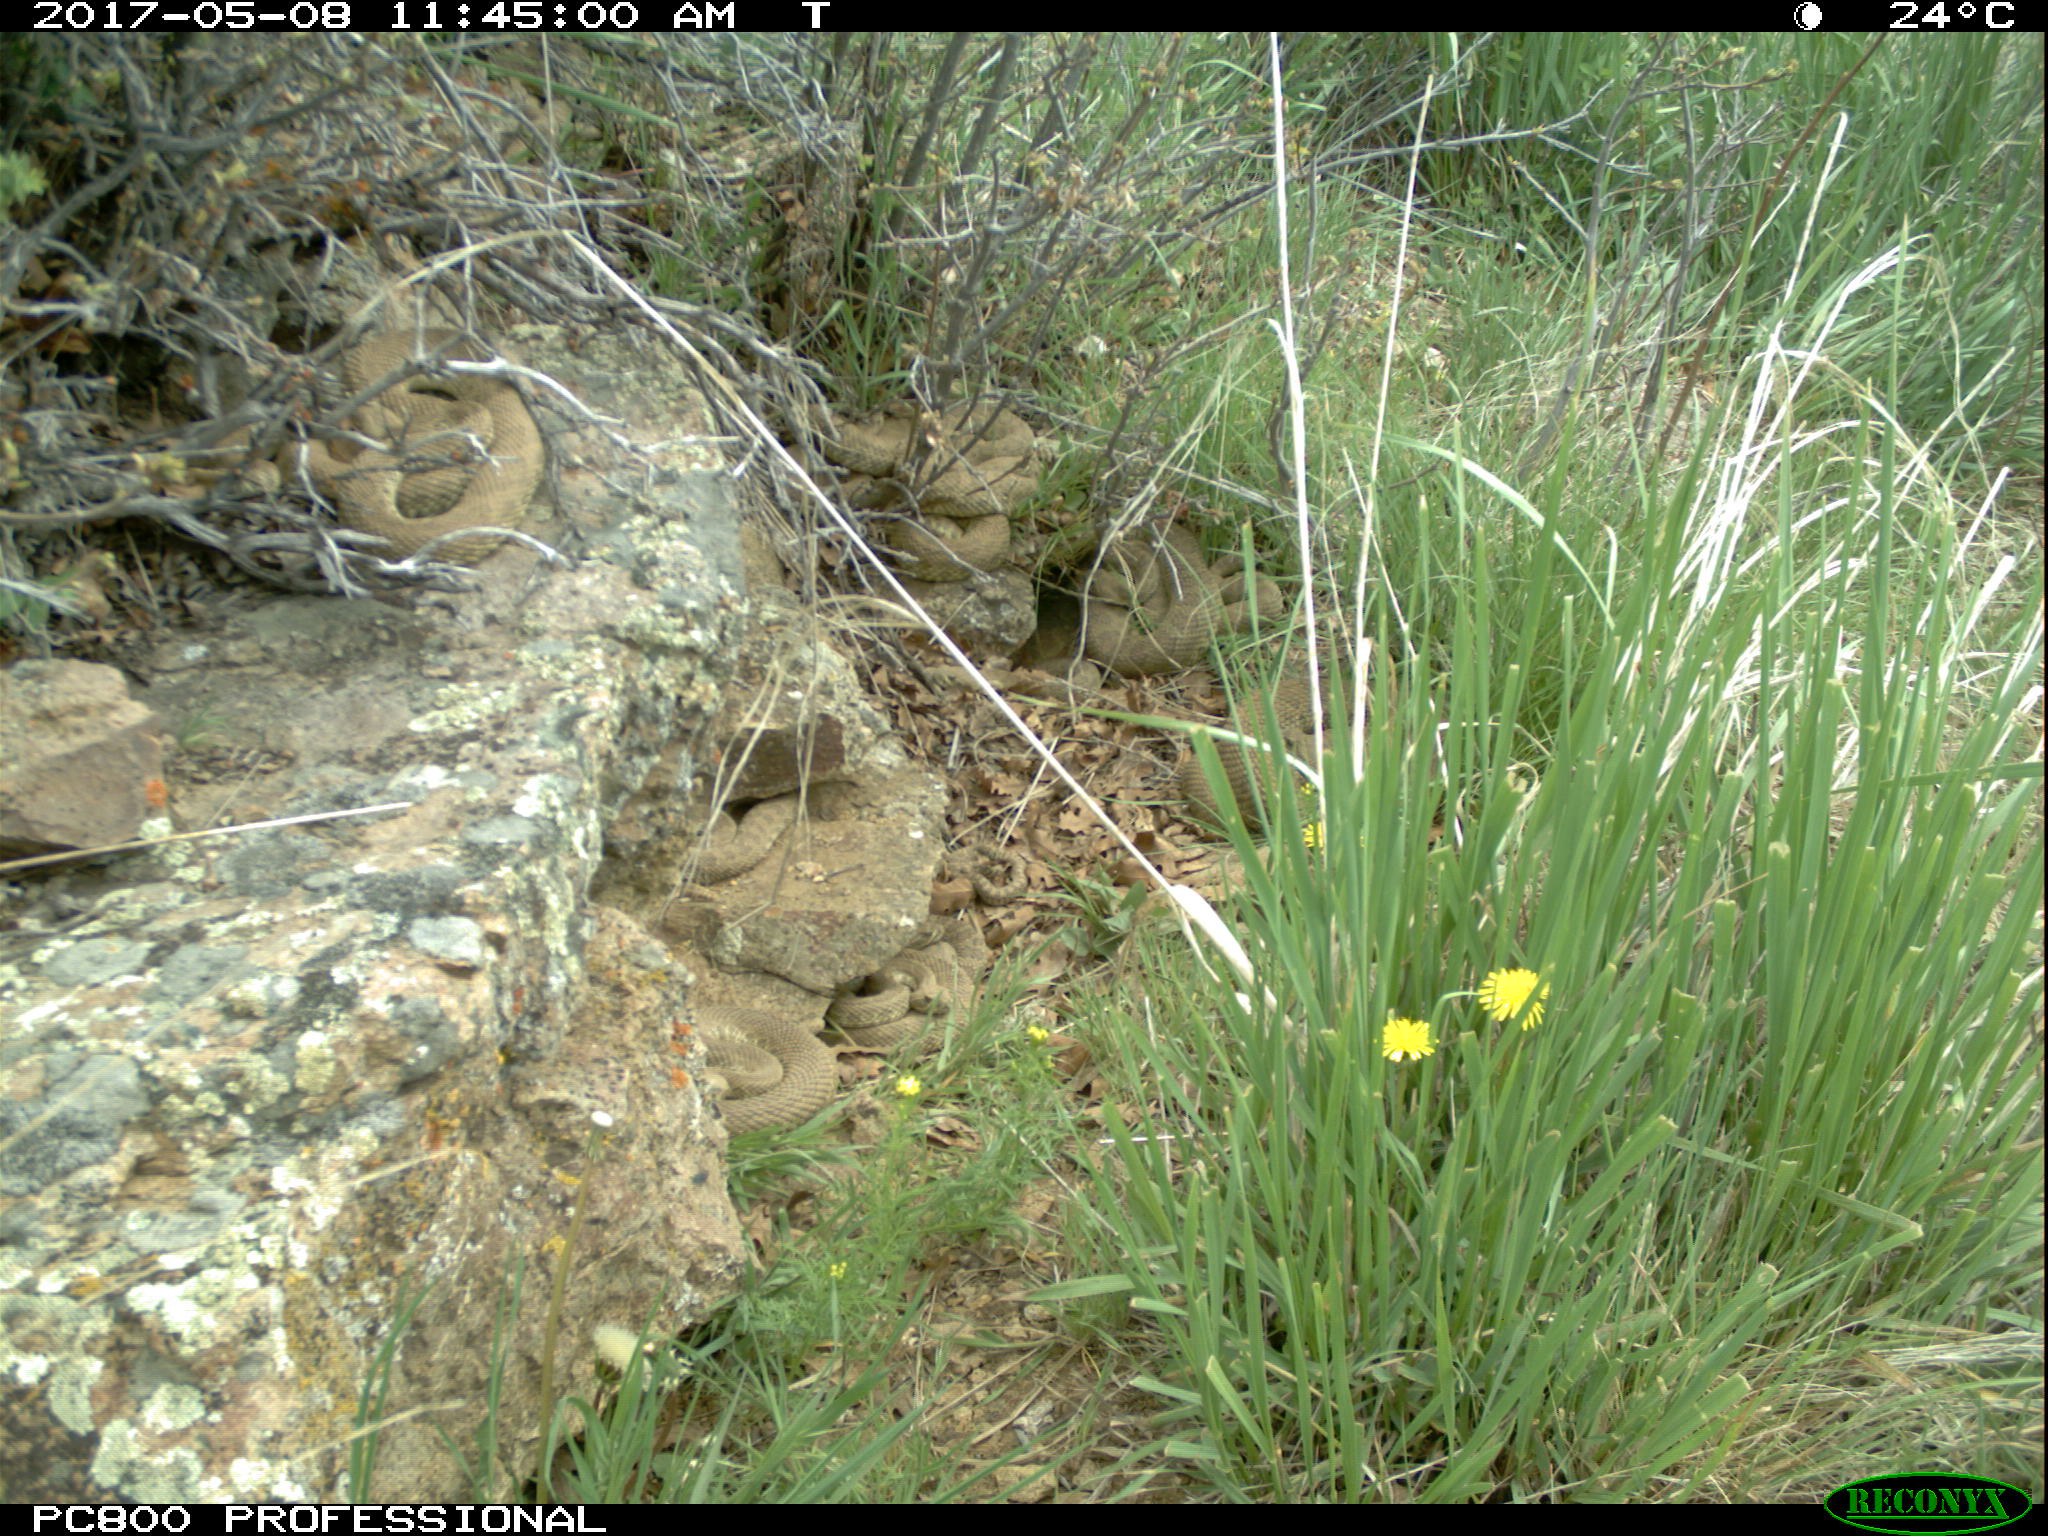snake: (281, 334, 548, 563), (798, 402, 1042, 582), (1066, 515, 1292, 676), (1201, 670, 1392, 837), (819, 918, 993, 1049), (697, 1000, 843, 1129), (685, 795, 814, 879), (961, 833, 1035, 900)
